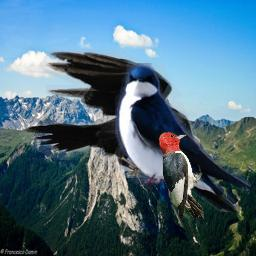Crow: (19, 49, 197, 178)
Swallow: (115, 63, 251, 212)
Woodpecker: (159, 131, 205, 221)
